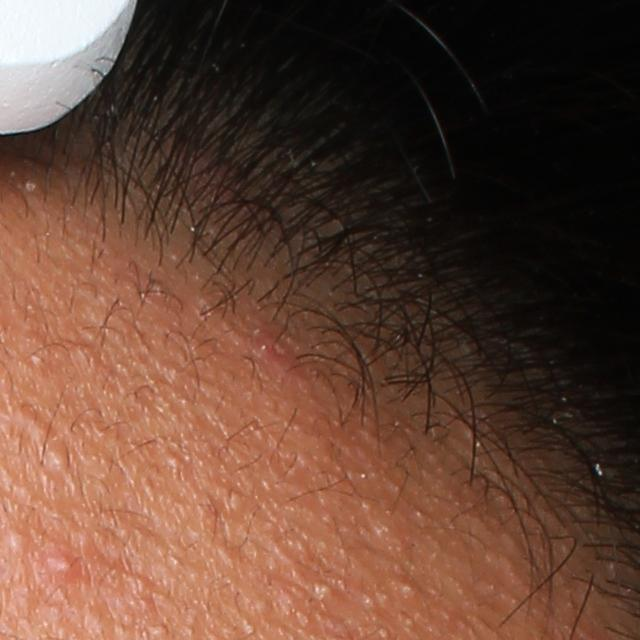comedo: (42, 449, 65, 476), (22, 343, 46, 368), (162, 452, 185, 475), (396, 576, 416, 601), (4, 530, 26, 551), (314, 577, 332, 599)
papule: (248, 324, 298, 371), (44, 541, 86, 583)
